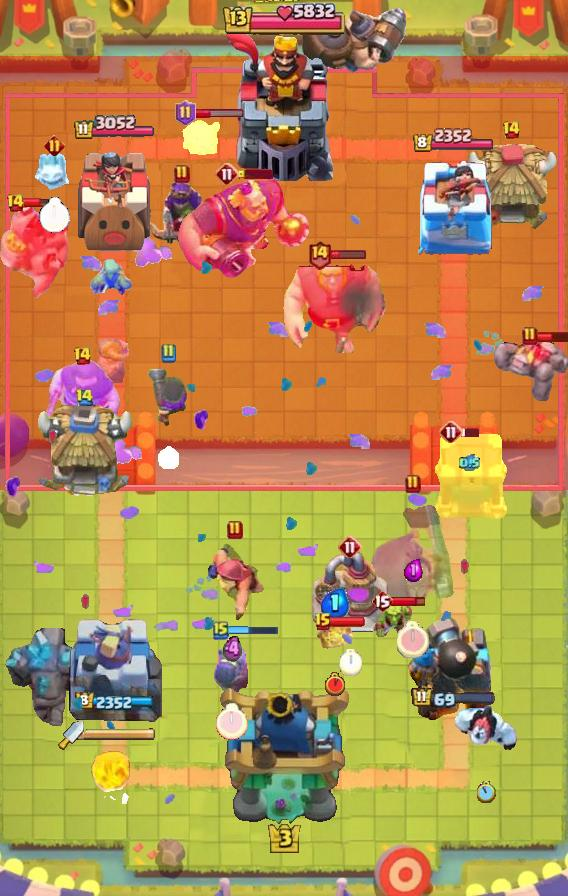balloon: (280, 255, 386, 353)
bar: (66, 611, 162, 731)
barbarian-hut: (139, 178, 225, 256)
bat: (180, 118, 222, 160), (32, 153, 76, 193)
bomb: (430, 433, 508, 521)
bomb-tower: (146, 367, 190, 427)
cannoneer-tower: (3, 628, 101, 730), (0, 207, 72, 301)
clock: (221, 0, 347, 40)
electro-spirit: (321, 588, 350, 619), (223, 635, 242, 664), (404, 558, 423, 582), (460, 454, 481, 472)
elixir: (397, 622, 429, 659), (216, 704, 248, 741), (38, 197, 69, 233), (338, 648, 361, 675), (158, 445, 179, 469), (325, 672, 345, 696), (477, 781, 496, 803)
emote: (227, 624, 279, 636), (194, 108, 246, 119), (390, 595, 426, 609), (536, 329, 568, 343), (330, 616, 366, 628), (23, 197, 58, 209), (329, 248, 367, 259), (237, 169, 273, 179), (461, 427, 481, 438)
fireball: (204, 542, 266, 626)
goblin-ball: (213, 632, 251, 700)
goblin-giant: (95, 337, 131, 384)
ice-spirit-evolution: (315, 619, 355, 655)
king-tower: (216, 684, 352, 826), (223, 31, 345, 181)
king-tower-bar: (84, 728, 156, 742)
lightning: (175, 179, 312, 279)
pekka: (311, 552, 389, 634)
prince: (33, 405, 135, 501), (464, 142, 558, 232)
queen-tower: (71, 144, 157, 255), (407, 158, 499, 256)
rage: (451, 702, 521, 754)
royal-hog: (42, 357, 122, 421)
selected: (72, 115, 155, 141), (413, 128, 496, 154), (412, 686, 497, 710), (74, 692, 154, 712)
text: (307, 238, 332, 269), (215, 162, 239, 186), (439, 420, 463, 444), (338, 535, 362, 559), (176, 100, 197, 126), (371, 589, 393, 613), (43, 135, 64, 156), (6, 193, 26, 213), (502, 120, 521, 140), (72, 346, 91, 366), (74, 388, 93, 407), (314, 612, 332, 632), (174, 164, 190, 184), (522, 326, 538, 346), (160, 343, 176, 363), (405, 474, 421, 494), (227, 520, 243, 540), (213, 620, 229, 640)
tower-bar: (403, 615, 503, 731)
valkyrie: (87, 744, 135, 804)
valkyrie-evolution: (494, 339, 568, 401)
wall-breaker-evolution: (371, 491, 455, 609)
wizard: (298, 5, 410, 75)
zap: (89, 255, 133, 297), (374, 601, 416, 643)
